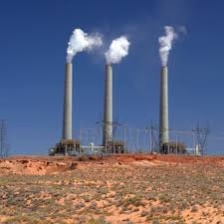smoke: (155, 33, 182, 69), (68, 31, 91, 61), (109, 38, 125, 64)
